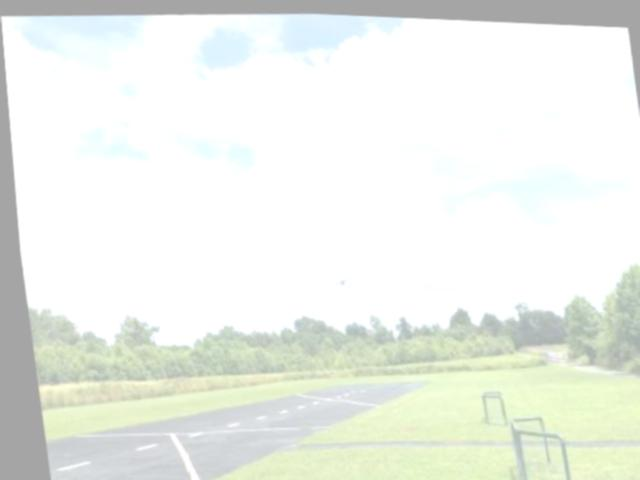uav: (323, 269, 352, 285)
